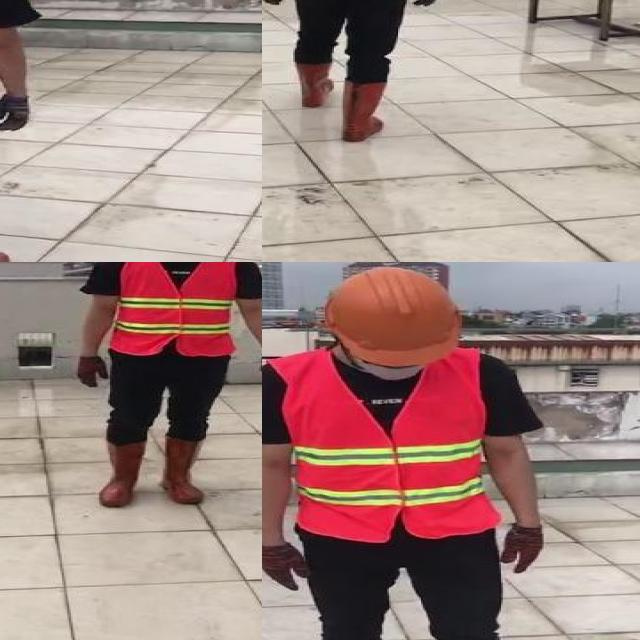boots: (96, 440, 146, 508), (162, 434, 208, 505), (341, 75, 387, 142), (292, 57, 338, 108)
hand_glove: (262, 543, 310, 590), (500, 525, 546, 573), (0, 93, 39, 130), (75, 354, 106, 389), (410, 0, 437, 6)
head_helmet: (318, 267, 465, 362)
person: (262, 263, 557, 640), (57, 262, 262, 512), (262, 0, 457, 150)
vest: (264, 350, 496, 539), (110, 262, 232, 356)
